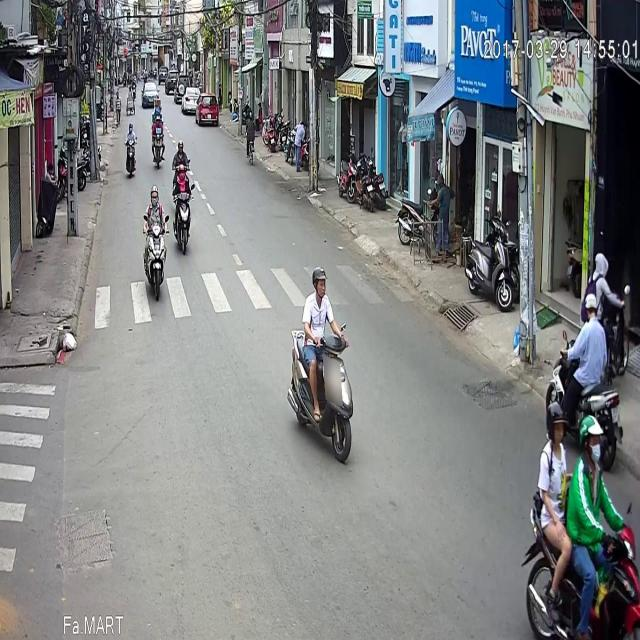car: (195, 33, 217, 66)
motorcycle: (520, 344, 640, 609), (545, 238, 623, 412), (287, 209, 353, 406), (143, 126, 169, 244), (173, 105, 195, 197), (124, 63, 138, 120), (151, 58, 165, 112)
